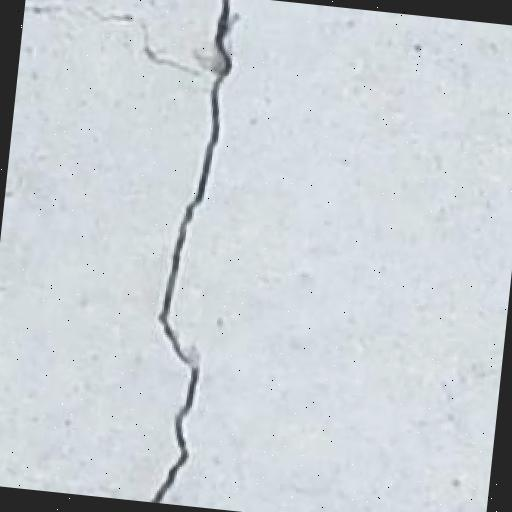spalling: (135, 1, 272, 495)
